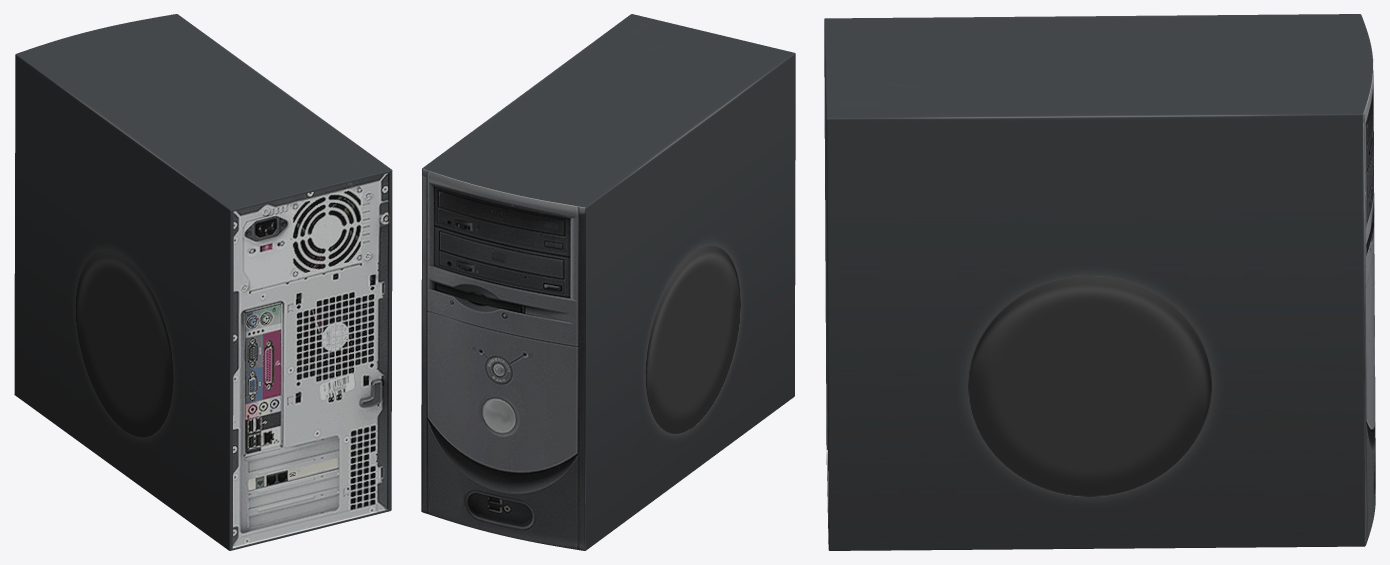
Rendered from Gabinet1.obj.
3 views of the same model, side by side, from view 1: azimuth 30°, elevation 25°; view 2: azimuth 150°, elevation 25°; view 3: azimuth 270°, elevation 25° (orthographic). The views are drawn at different scales.
Parts seen in each view (by area): view 1: 10104_Computer_CPU_Case; view 2: 10104_Computer_CPU_Case; view 3: 10104_Computer_CPU_Case.
Boxes of the visible parts, x1,y1,x2,y2 form: 10104_Computer_CPU_Case: (14, 14, 392, 550); 10104_Computer_CPU_Case: (421, 14, 795, 550); 10104_Computer_CPU_Case: (824, 14, 1375, 550).
Size of the model in its own units: 20.4 by 40.22 by 46.23.
1 material, 1 textured.
